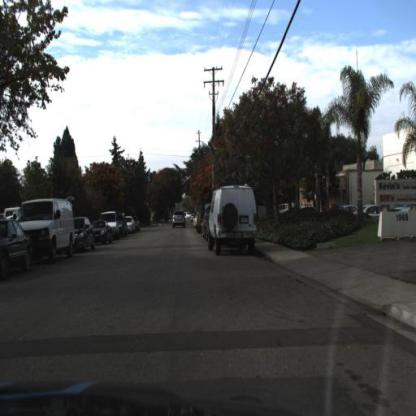car: (206, 180, 260, 258), (21, 200, 78, 272), (1, 217, 33, 285), (74, 217, 97, 251), (90, 221, 113, 247), (173, 207, 189, 233)
